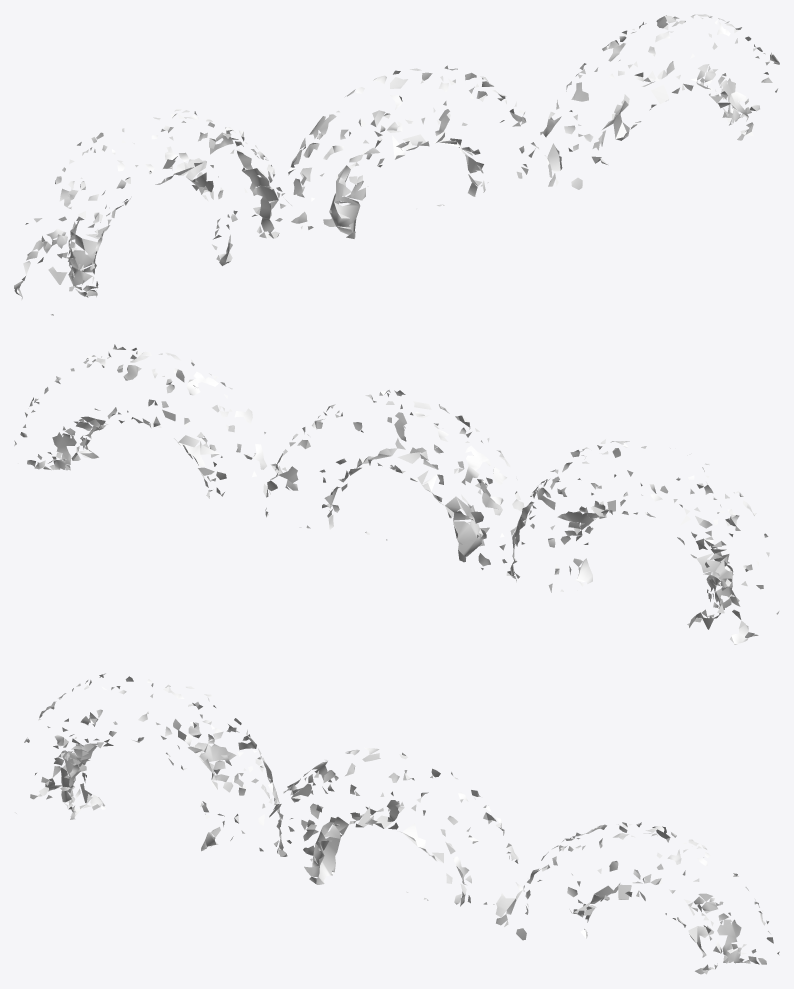
The picture shows the model from 3 angles, top to bottom: view 1: azimuth 30°, elevation 25°; view 2: azimuth 150°, elevation 25°; view 3: azimuth 330°, elevation 25°; orthographic projection. The views are drawn at different scales.
Size of the model in its own units: 1.92 by 0.38 by 0.2017.
Materials: 1 (1 with a texture image).
